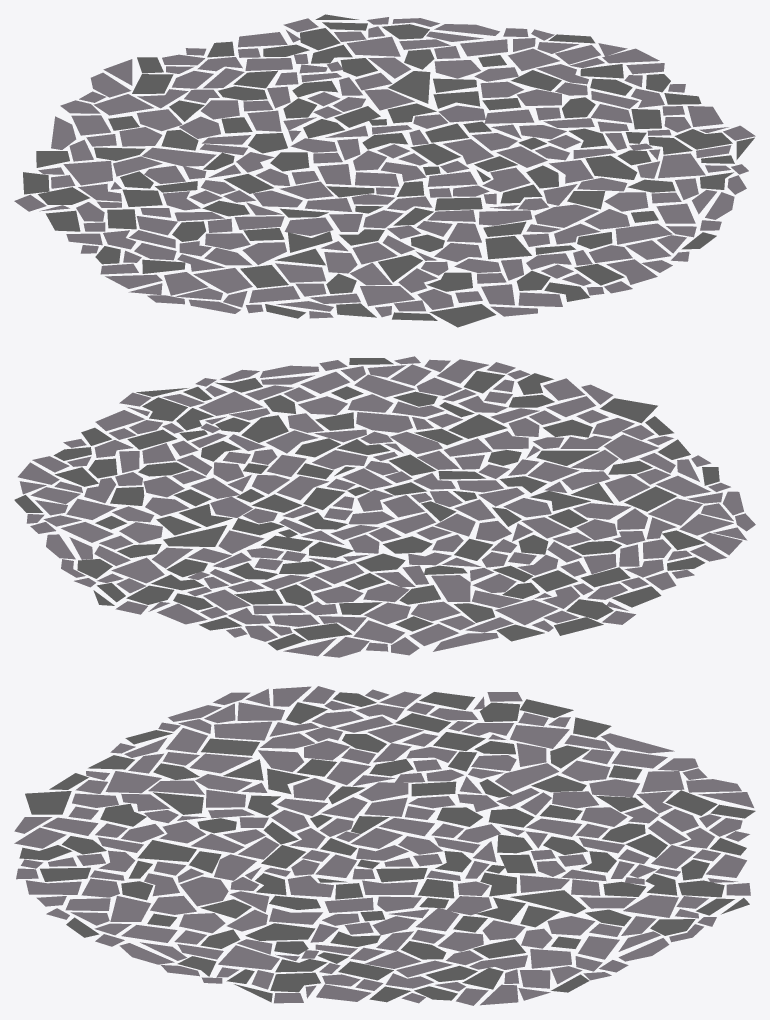
File: road_square.fbx
3 views of the same model, one above another, from view 1: azimuth 30°, elevation 25°; view 2: azimuth 150°, elevation 25°; view 3: azimuth 270°, elevation 25° (orthographic). The views are drawn at different scales.
Visible parts, largest first — view 1: road_right.001; view 2: road_right.001; view 3: road_right.001.
Part boxes in pixels (x1=…): road_right.001: x1=14, y1=14, x2=755, y2=327; road_right.001: x1=14, y1=356, x2=755, y2=657; road_right.001: x1=14, y1=686, x2=755, y2=1005.
Bounding box in the file's own units: 418 × 1.16 × 410.
